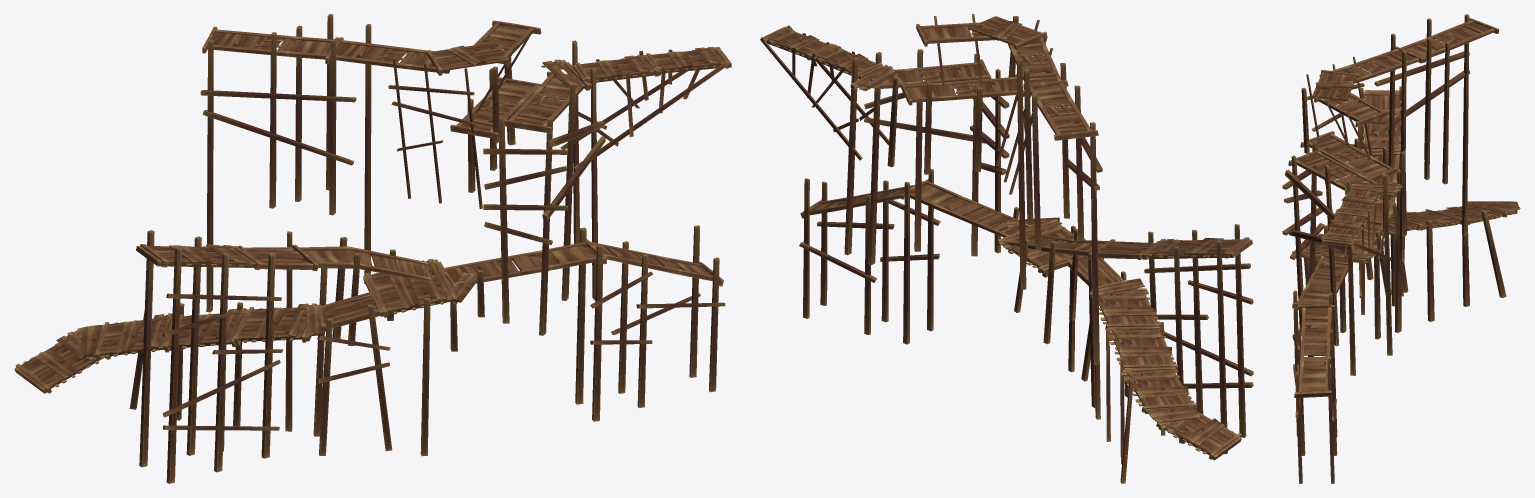
Rendered from q01c_building_006.FBX.
The picture shows the model from 3 angles, left to right: view 1: azimuth 30°, elevation 25°; view 2: azimuth 150°, elevation 25°; view 3: azimuth 270°, elevation 25°; orthographic projection. The views are drawn at different scales.
Parts seen in each view (by area): view 1: q01c_building_06; view 2: q01c_building_06; view 3: q01c_building_06.
Part boxes in pixels (box(x1,y1,x2,y2)): q01c_building_06: box(14, 14, 731, 483); q01c_building_06: box(760, 14, 1253, 483); q01c_building_06: box(1282, 14, 1520, 483).
Size of the model in its own units: 3920 by 2425 by 1623.
